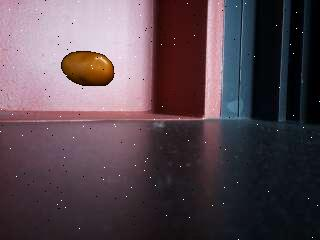Potato: (61, 50, 114, 87)
